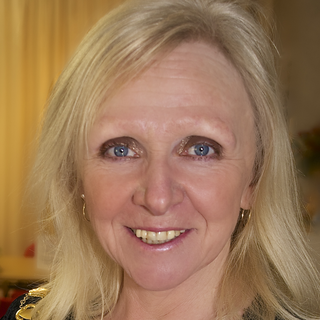eye: (173, 134, 224, 165), (96, 136, 145, 165)
